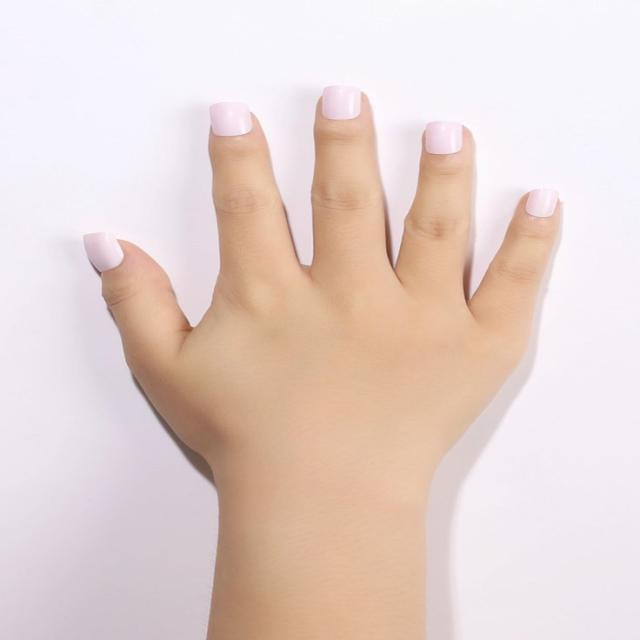Fingernail: (210, 102, 254, 137), (85, 234, 123, 273), (322, 85, 362, 122), (425, 122, 462, 155), (526, 188, 558, 216)
